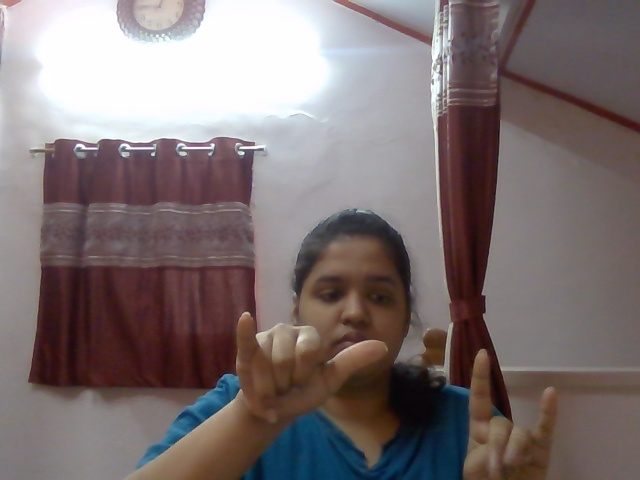y: (200, 293, 398, 431)
